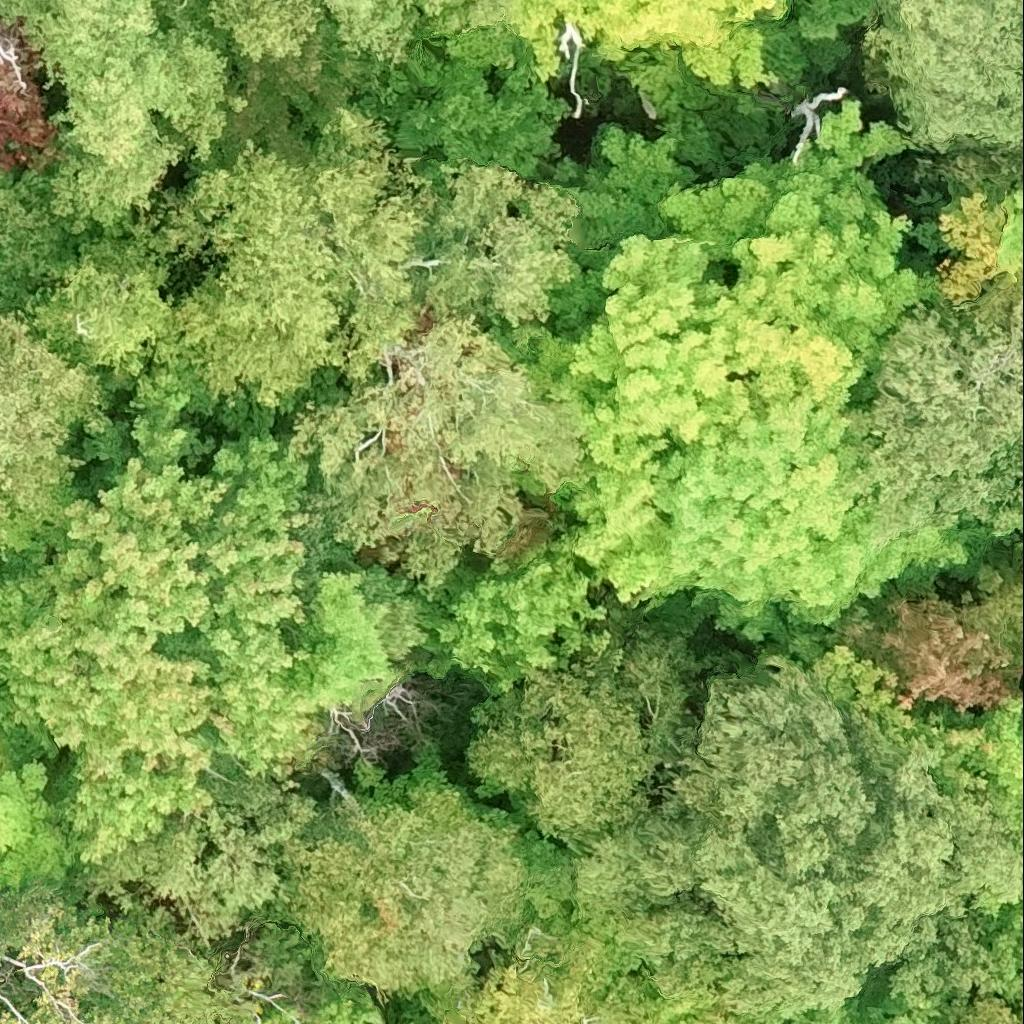crown: (519, 98, 986, 626), (0, 371, 331, 867), (37, 107, 439, 405), (286, 315, 587, 600), (256, 742, 535, 1005), (575, 811, 888, 1012), (0, 0, 242, 236), (838, 717, 1023, 1007), (659, 654, 879, 880), (839, 287, 1023, 552), (466, 631, 683, 852), (0, 888, 262, 1023), (451, 0, 793, 94), (822, 560, 1023, 716), (865, 0, 1023, 191), (424, 536, 612, 693), (0, 304, 111, 551), (424, 163, 582, 330), (420, 928, 670, 1023), (292, 561, 431, 728), (325, 0, 527, 71), (936, 172, 1023, 311), (761, 0, 877, 80), (211, 0, 330, 57), (255, 993, 385, 1023), (957, 999, 1023, 1023), (0, 44, 26, 84)
